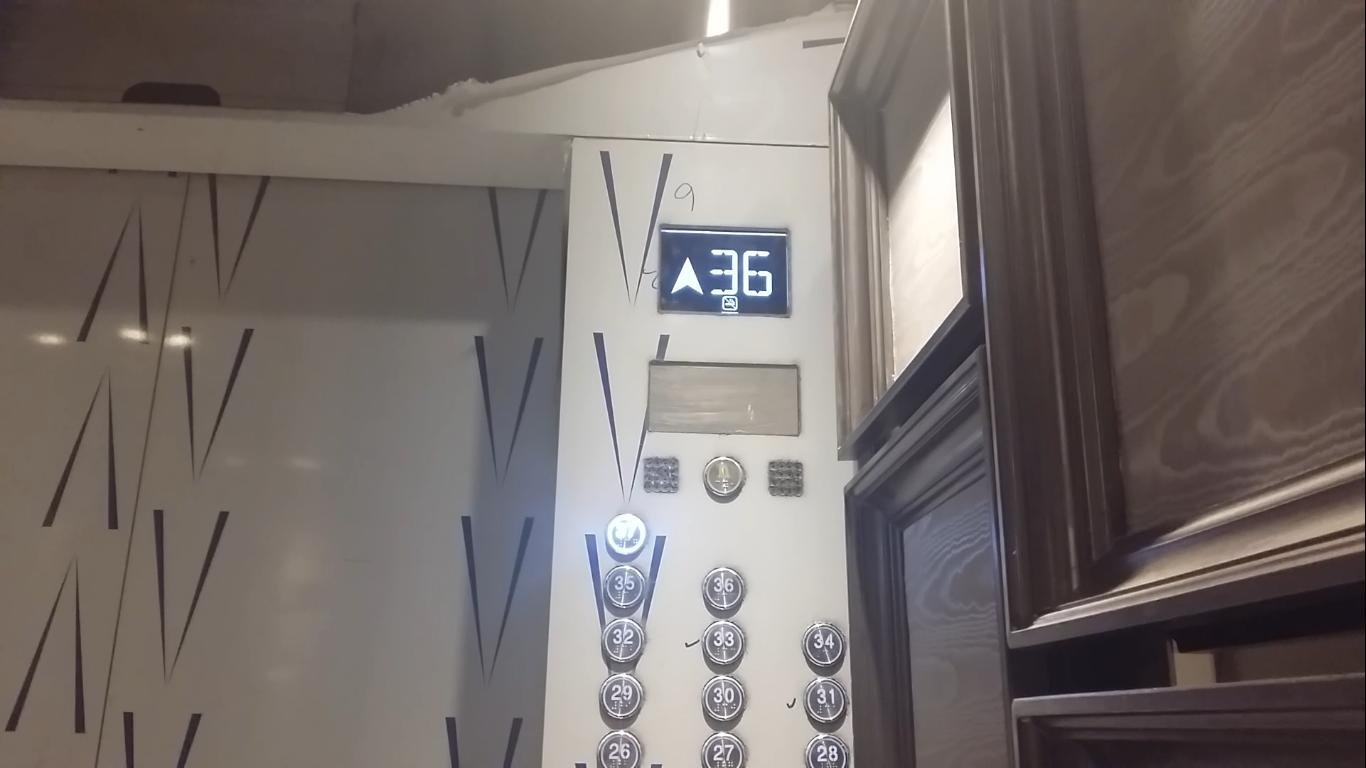26: (596, 727, 644, 768)
27: (699, 729, 744, 768)
28: (803, 732, 852, 768)
29: (598, 671, 645, 722)
30: (700, 674, 748, 723)
31: (801, 676, 850, 725)
32: (599, 617, 647, 666)
33: (702, 618, 746, 666)
34: (800, 621, 848, 670)
35: (601, 562, 648, 611)
36: (700, 564, 747, 612)
alarm: (699, 453, 747, 504)
blur: (603, 510, 649, 559)
led: (655, 220, 792, 319)
